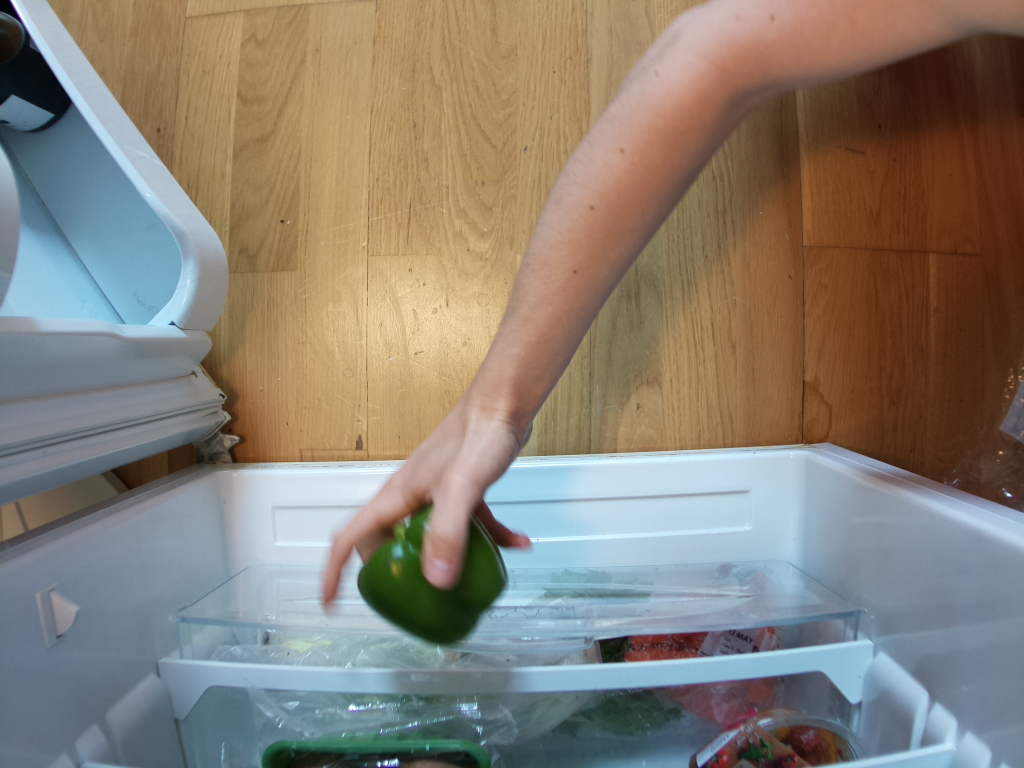pepper: (360, 498, 510, 652)
